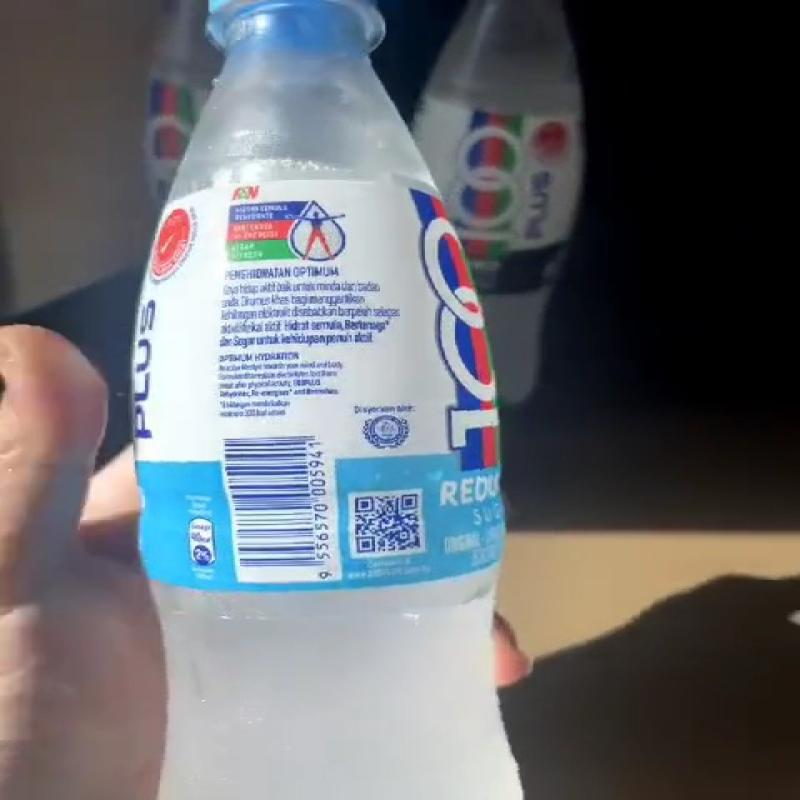botella: (148, 3, 518, 800), (410, 0, 590, 408)
